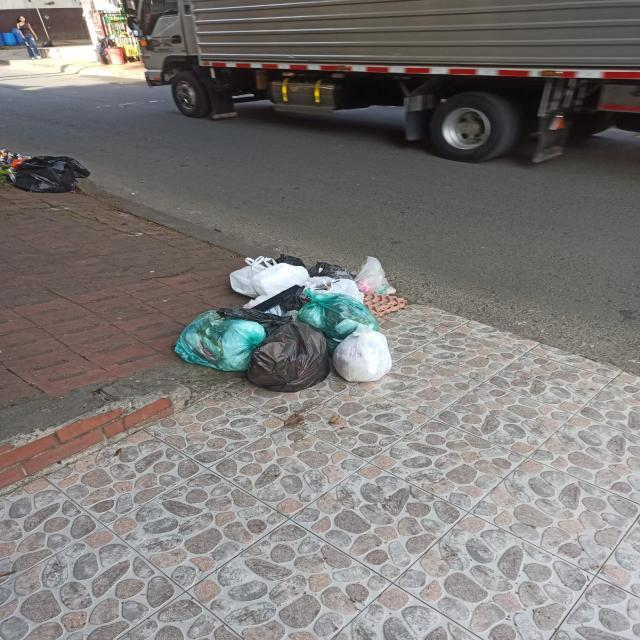Trashbag: (248, 324, 334, 391), (8, 152, 90, 199)
